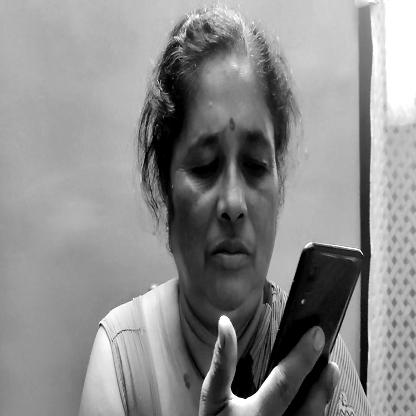Distracted: (150, 20, 286, 322)
